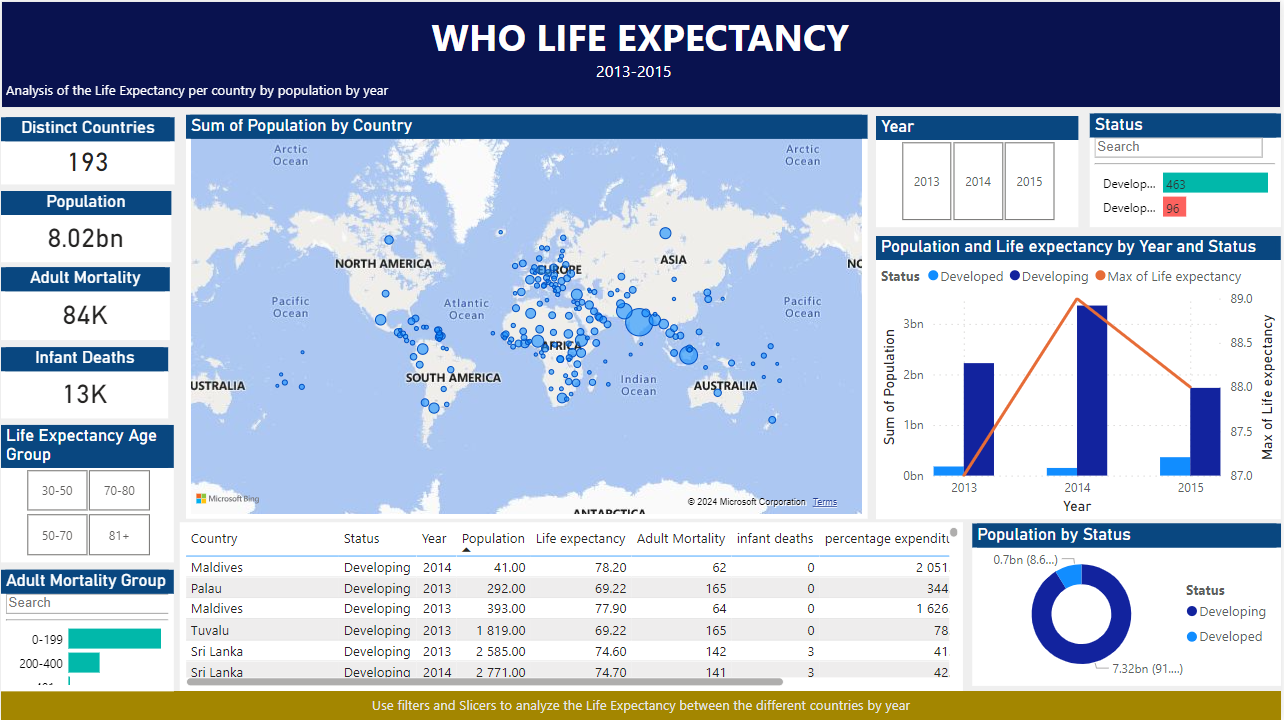

Layout of this report page (visuals, bound fields, positions):
{"tool":"powerbi","page":{"name":"Population","canvas":[1280,720],"ordinal":1},"visuals":[{"type":"map","fields":{"Category":["Sheet1.Country"],"Size":["Sum(Sheet1.Population)"]},"box":[185,113.8,681.2,403.8],"z":0},{"type":"shape","box":[0,0,1280.2,107],"z":1000},{"type":"textbox","box":[403.5,4.7,470.9,70.9],"z":2000},{"type":"textbox","box":[0,75.6,534.9,40.7],"z":3000},{"type":"textbox","box":[589.5,53.5,223.3,34.9],"z":4000},{"type":"tableEx","fields":{"Values":["Sheet1.Country","Sheet1.Status","Sheet1.Year","Sheet1.Population","Sheet1.Life expectancy ","Sheet1.Adult Mortality","Sheet1.infant deaths","Sheet1.percentage expenditure","Sheet1.Total expenditure","Sheet1.GDP"]},"box":[178.9,521.1,783.3,168.9],"z":5000},{"type":"card","title":"Distinct Countries","fields":{"Values":["Count(Sheet1.Country)"]},"box":[0,116.2,173.8,67.5],"z":6000},{"type":"card","title":"Population","fields":{"Values":["Sum(Sheet1.Population)"]},"box":[0,190,170,71.2],"z":7000},{"type":"card","title":"Adult Mortality","fields":{"Values":["Sum(Sheet1.Adult Mortality)"]},"box":[0,266.2,168.8,72.5],"z":8000},{"type":"card","title":"Infant Deaths","fields":{"Values":["Sum(Sheet1.infant deaths)"]},"box":[0,346.2,167.5,71.2],"z":9000},{"type":"lineClusteredColumnComboChart","title":"Population and Life expectancy  by Year and Status","fields":{"Category":["Sheet1.Year"],"Series":["Sheet1.Status"],"Y":["Sum(Sheet1.Population)"],"Y2":["Max(Sheet1.Life expectancy )"]},"box":[875.6,234.4,404.4,283.3],"z":10000},{"type":"donutChart","title":"Population by Status","fields":{"Category":["Sheet1.Status"],"Y":["Sum(Sheet1.Population)"]},"box":[970.8,522.1,308.8,162.5],"z":11000},{"type":"textbox","box":[0,689.5,1280.2,30.2],"z":12000},{"type":"slicer","title":"Life Expectancy Age Group","fields":{"Values":["Sheet1.LifeExp_Groups"]},"box":[0,423.8,172.5,137.5],"z":13000},{"type":"AttributeSlicer1652434005853","title":"Adult Mortality Group","fields":{"Category":["Sheet1.Adult_Mortality_Groups"],"Values":["CountNonNull(Sheet1.Adult_Mortality_Groups)"]},"box":[0,568.8,172.5,121.2],"z":14000},{"type":"slicer","title":"Year","fields":{"Values":["Sheet1.Year"]},"box":[875.6,114.4,202.2,111.1],"z":15000},{"type":"AttributeSlicer1652434005853","title":"Status","fields":{"Category":["Sheet1.Status"],"Values":["CountNonNull(Sheet1.Status)"],"Series":["Sheet1.Status"]},"box":[1088.9,112.2,191.1,113.3],"z":16000}]}

Visuals, with their boxes in screenshot pixels (x1, y1, x2, y2), scaled from the page's 1280x720 canvas onto the 1284x720 screenshot:
map - Sheet1.Country x Sum(Sheet1.Population): 186/114/869/518
shape: 0/0/1283/107
textbox: 405/5/877/76
textbox: 0/76/537/116
textbox: 591/54/815/88
tableEx - Sheet1.Country x Sheet1.Status: 179/521/965/690
"Distinct Countries" card: 0/116/174/184
"Population" card: 0/190/171/261
"Adult Mortality" card: 0/266/169/339
"Infant Deaths" card: 0/346/168/417
"Population and Life expectancy  by Year and Status" lineClusteredColumnComboChart: 878/234/1283/518
"Population by Status" donutChart: 974/522/1283/685
textbox: 0/690/1283/719
"Life Expectancy Age Group" slicer: 0/424/173/561
"Adult Mortality Group" AttributeSlicer1652434005853: 0/569/173/690
"Year" slicer: 878/114/1081/226
"Status" AttributeSlicer1652434005853: 1092/112/1283/226
